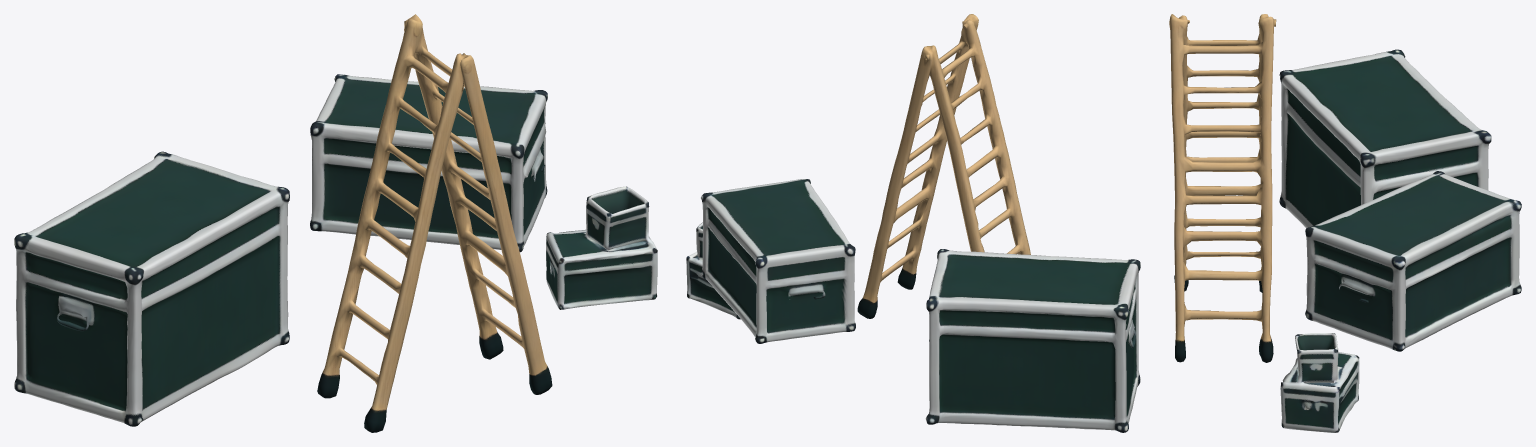
File: original.glb
3 renders of one model, left to right at view 1: azimuth 30°, elevation 25°; view 2: azimuth 150°, elevation 25°; view 3: azimuth 270°, elevation 25°, orthographic. The views are drawn at different scales.
Visible parts, largest first — view 1: model; view 2: model; view 3: model.
Part boxes in pixels (bbox=[...]): model: bbox=[14, 14, 657, 432]; model: bbox=[686, 14, 1140, 432]; model: bbox=[1169, 14, 1521, 432].
Bounding box in the file's own units: 1.89 × 1.11 × 1.12.
1 material, 1 textured.
